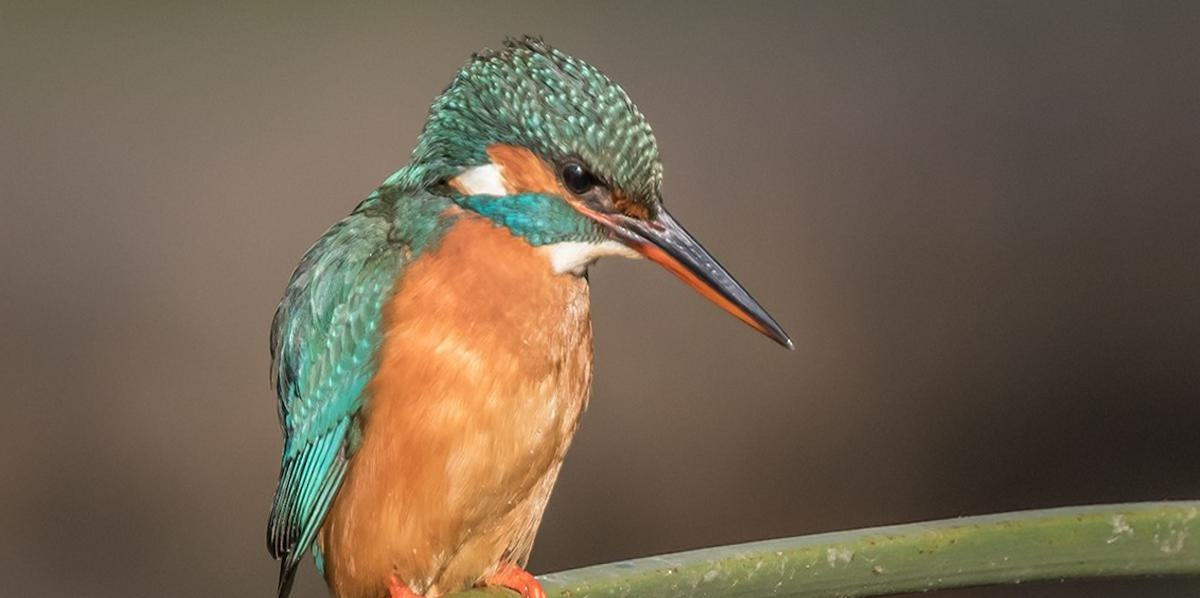kingfisher: (267, 28, 861, 566)
